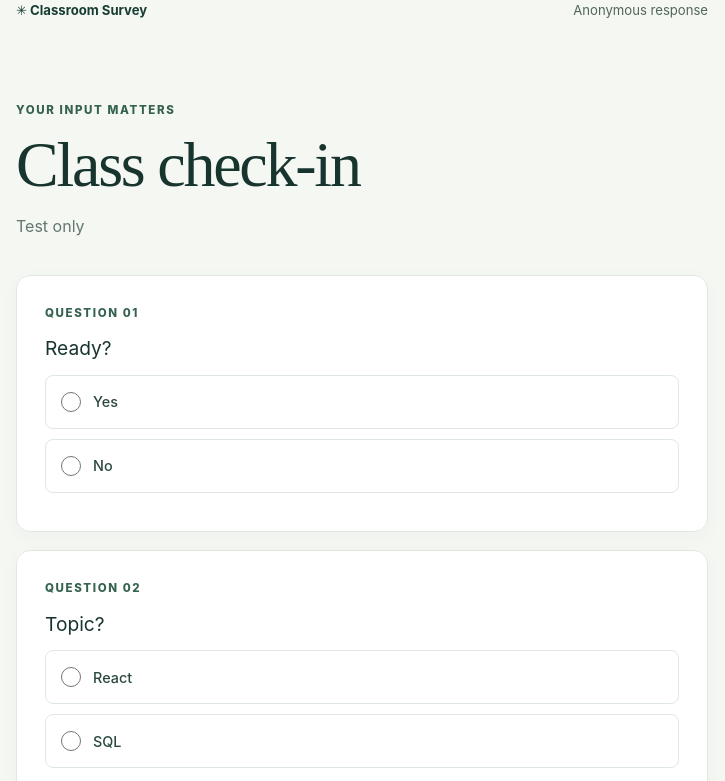
Test case: student survey › sends both selected answers and shows confirmation on success
The image size is (725, 781).
Click the radio button labelled "Yes": {"x": 71, "y": 402} [61,392,81,412]
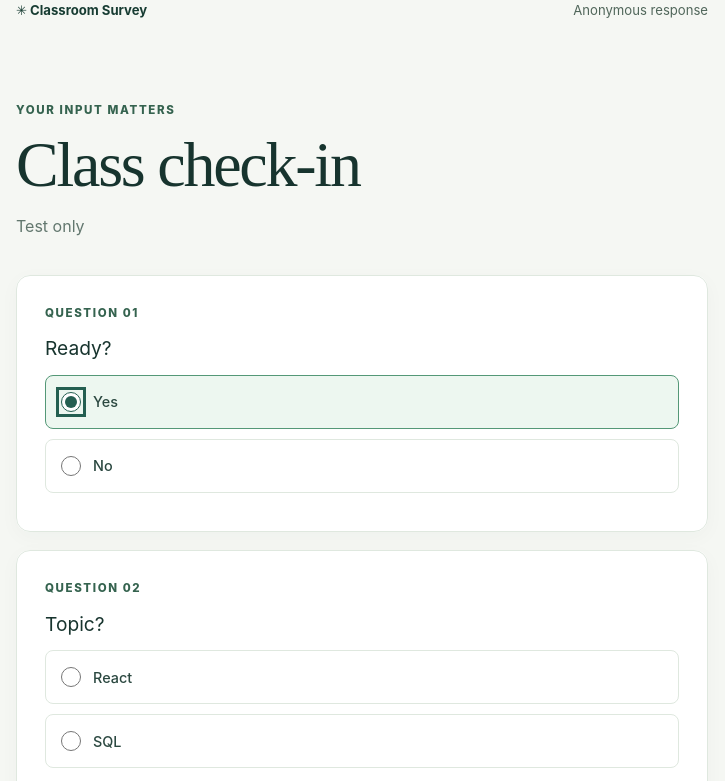
Click the radio button labelled "SQL": {"x": 71, "y": 741} [61,731,81,751]
(page scrolled)
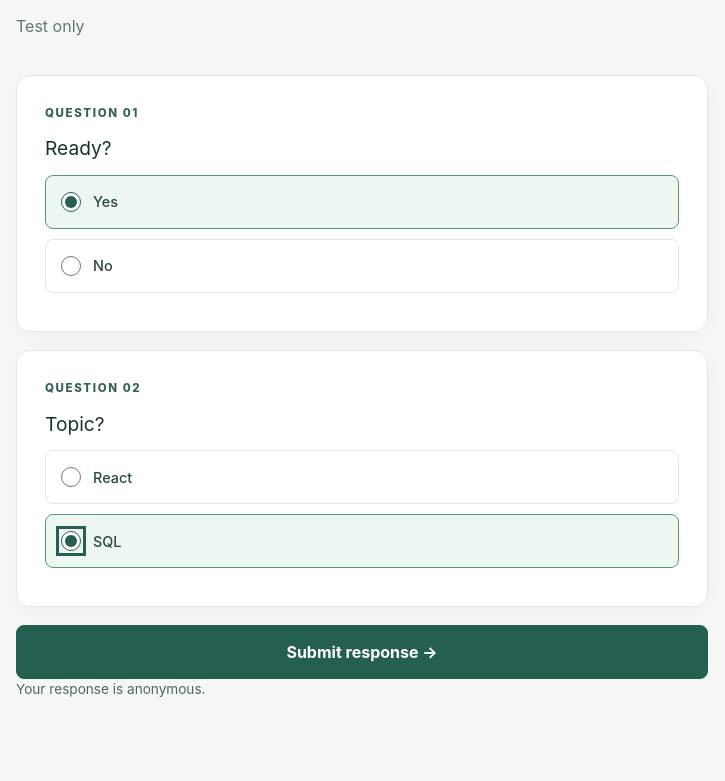
Click the button "Submit response →": {"x": 362, "y": 652} [16,625,708,679]
(page scrolled)
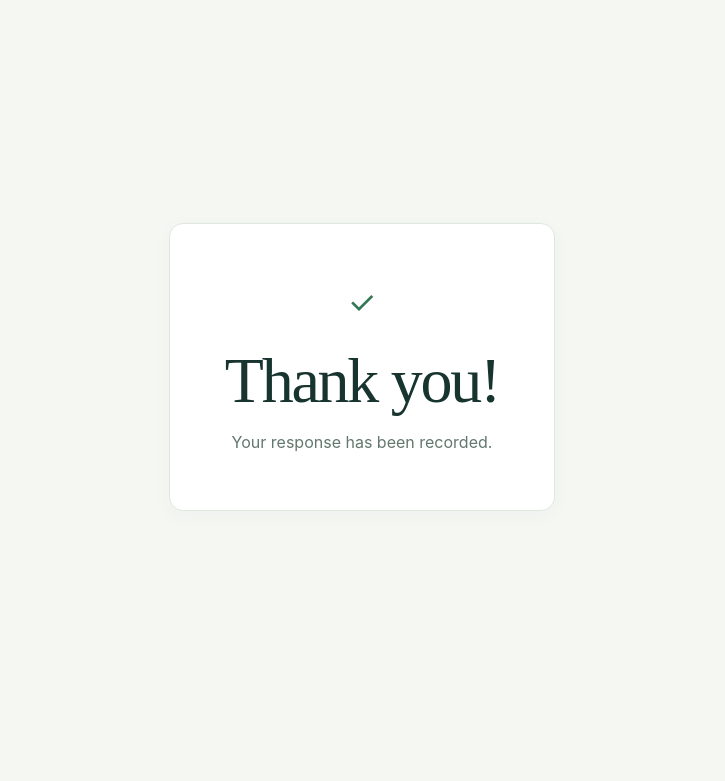
Expected: the heading "Thank you!" is shown, [225,347,499,414]
